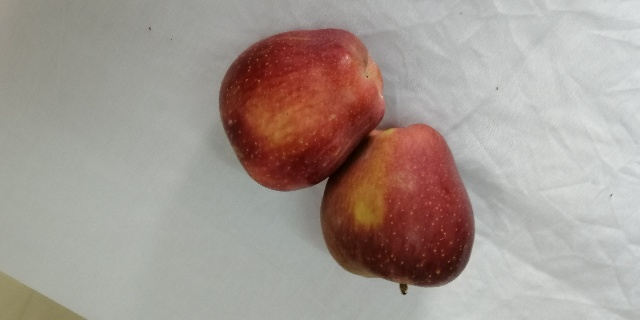apple_kashmir: (219, 29, 389, 190), (320, 123, 475, 296)
